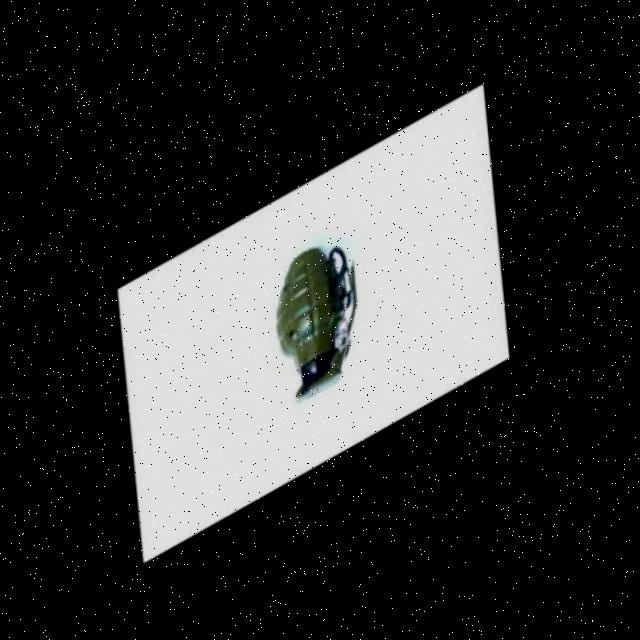grenade: (212, 211, 406, 430)
